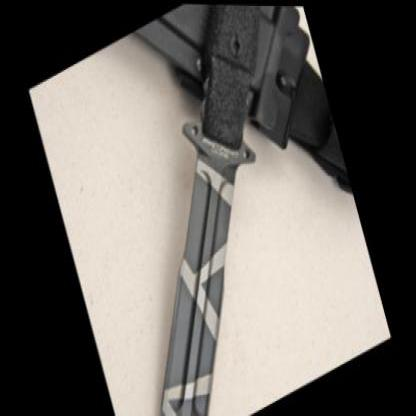knife: (62, 75, 319, 413)
